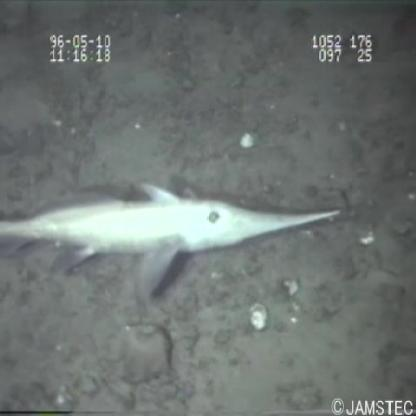Bio: (1, 179, 344, 301)
